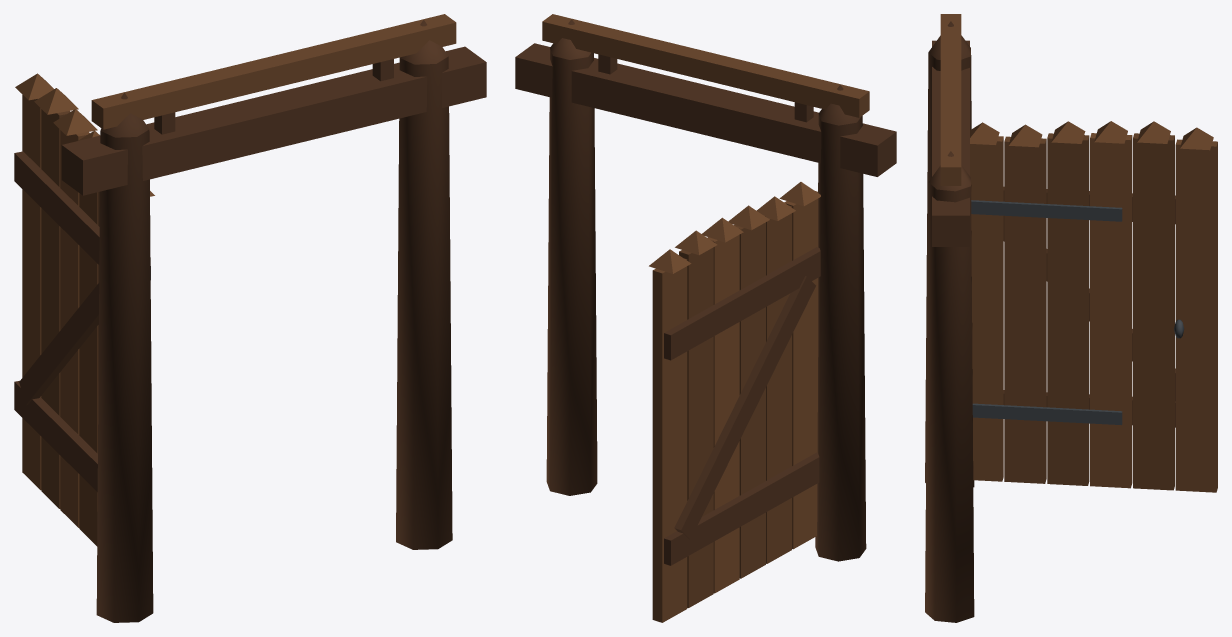
File: vorota.glb
3 views of the same model, side by side, from view 1: azimuth 30°, elevation 25°; view 2: azimuth 150°, elevation 25°; view 3: azimuth 270°, elevation 25° (orthographic). The views are drawn at different scales.
Parts seen in each view (by area): view 1: vorota; view 2: vorota; view 3: vorota.
Boxes of the visible parts, x1,y1,x2,y2 form: vorota: (14,14,486,622); vorota: (515,14,896,622); vorota: (925,14,1217,622).
Bounding box in the file's own units: 2.4 × 2.95 × 1.7.
